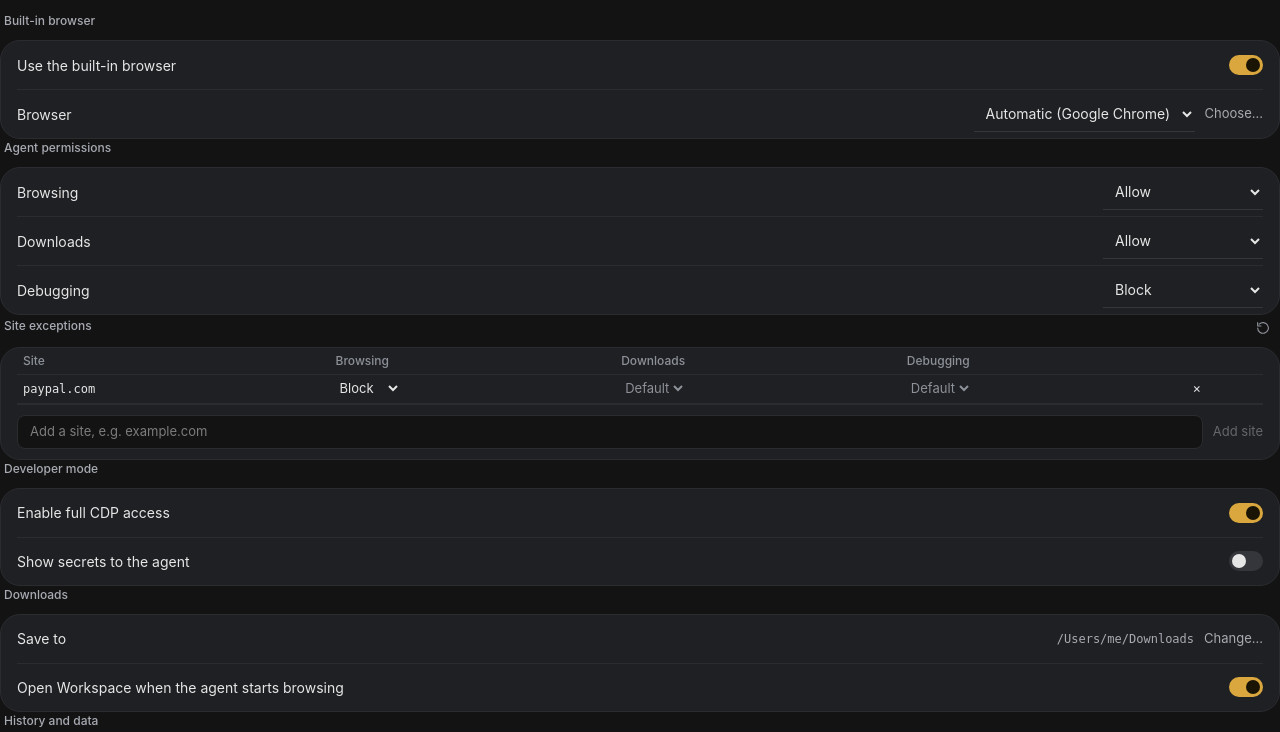
Test: Settings › Browser › greys out Debugging when Developer mode is off
Click the checkbox labelled "Enable full CDP access" at (1246, 512), box [1229,502,1263,522]
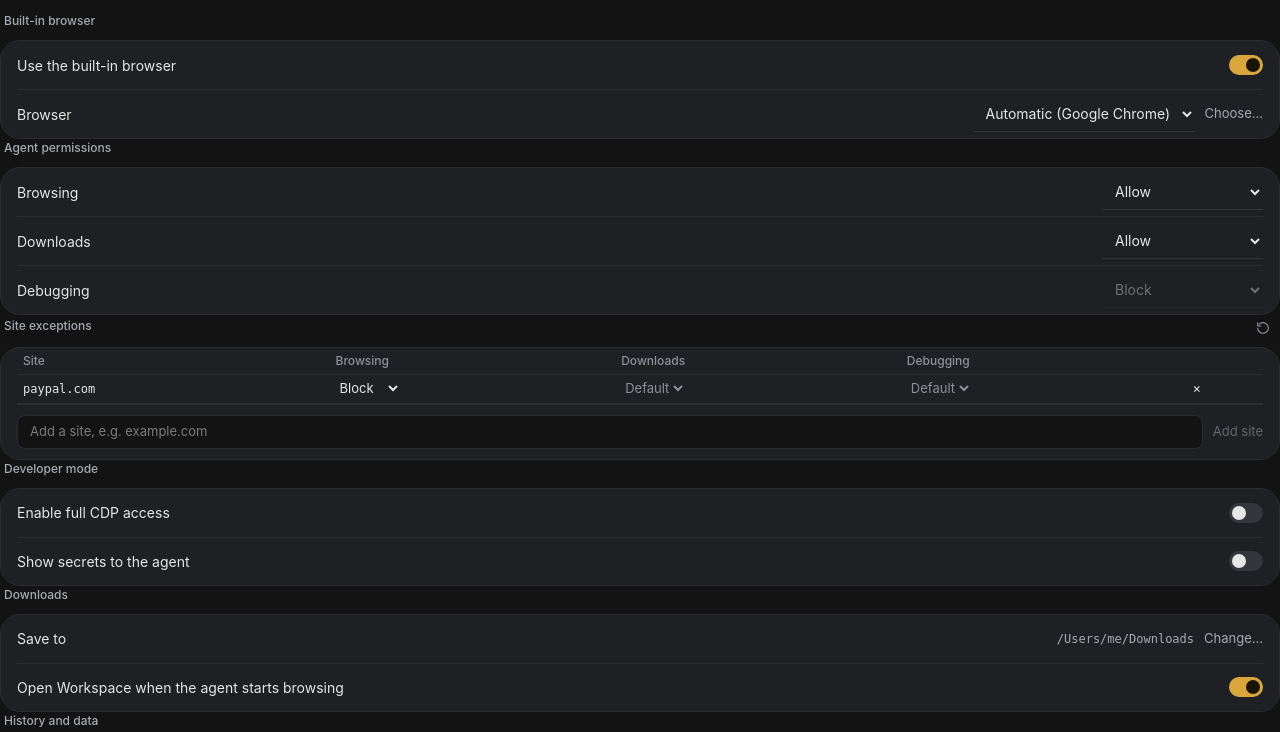
Expected: the dropdown labelled "Debugging" is disabled, [1103,272,1263,308]
